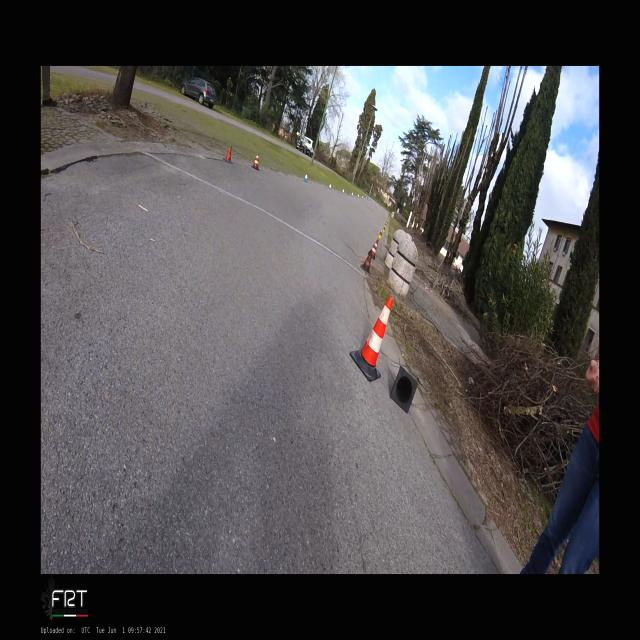blue_cone: (304, 172, 308, 182), (329, 183, 331, 190), (342, 189, 344, 193), (352, 192, 354, 196)
large_orange_cone: (349, 297, 394, 381), (360, 250, 372, 275), (368, 238, 378, 260), (252, 154, 260, 170)
unknown_cone: (390, 367, 418, 412), (223, 145, 233, 164)
yellow_cone: (378, 229, 382, 239), (382, 225, 386, 232)
